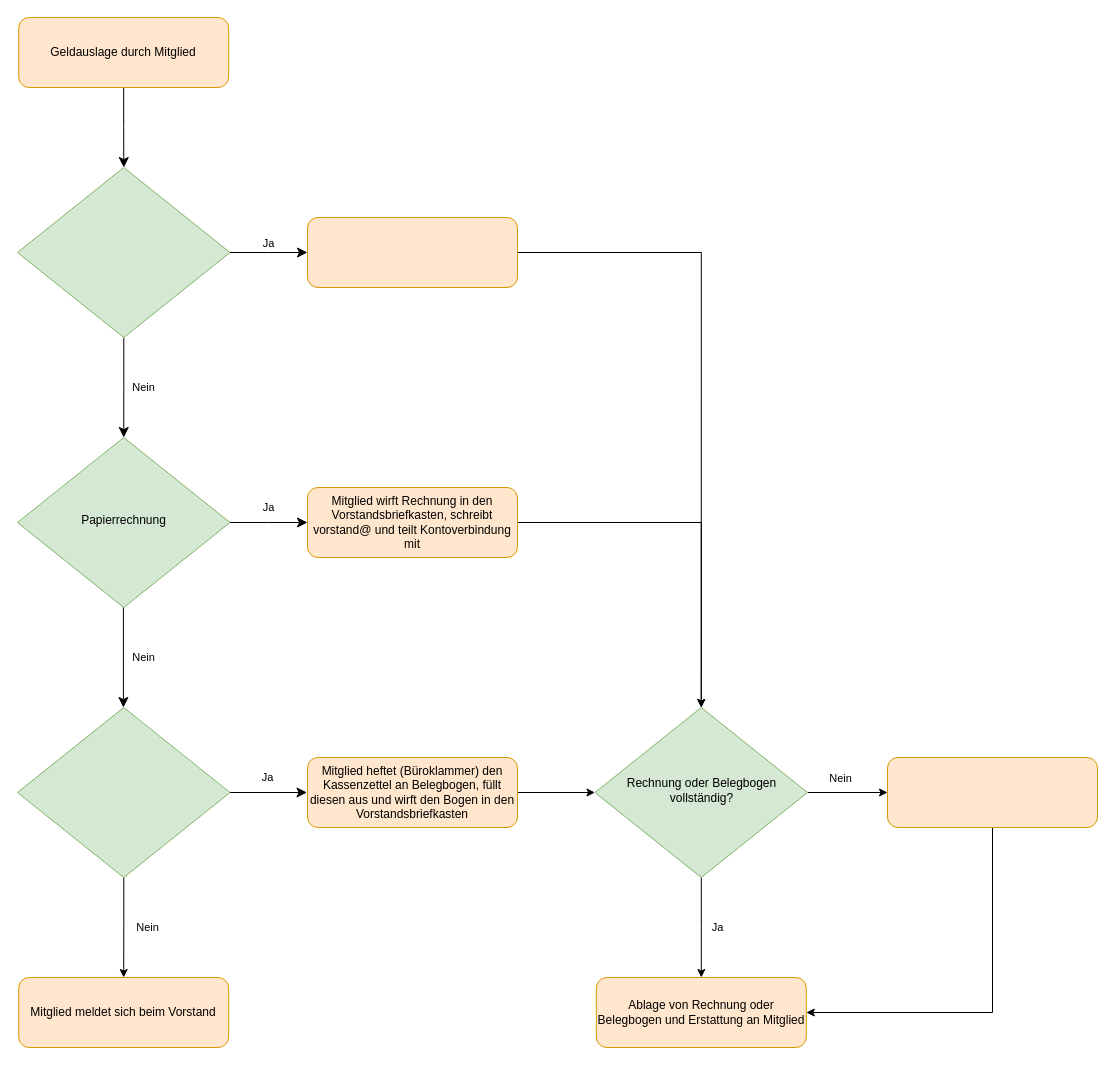
This 1115x1065 diagram has some shape labels left out. The shapes that lost their labels are listed below. From the top down, each one's centre as x and y in pixels, then its label:
point 123,252: Digitale Rechnung?
point 412,252: Mitglied leitet Rechnung an vorstand@ weiter und teilt Kontoverbindung mit
point 123,792: Kassenzettel
point 992,792: Korrektur durch Vorstand oder Mitglied
